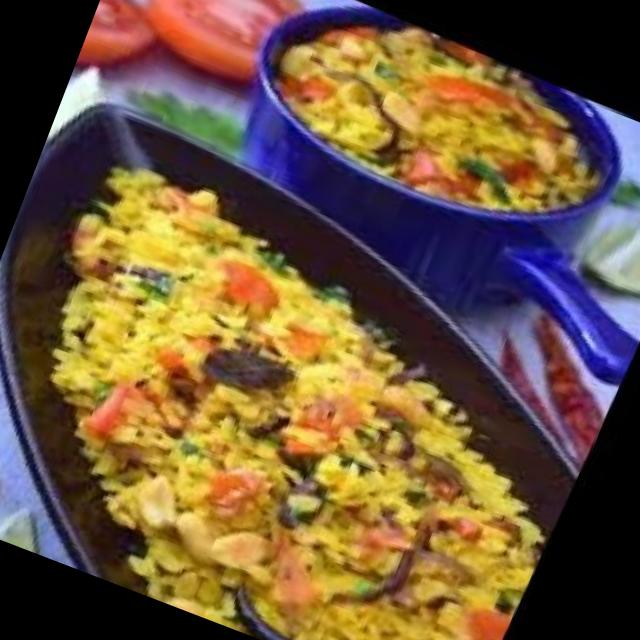poha: (0, 139, 639, 640), (251, 0, 632, 254)
